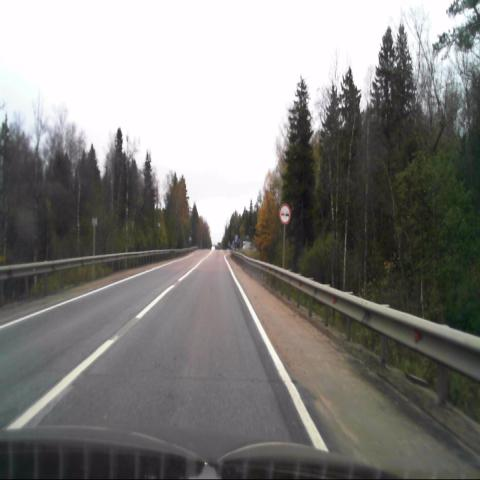3_20: (279, 204, 290, 225)
